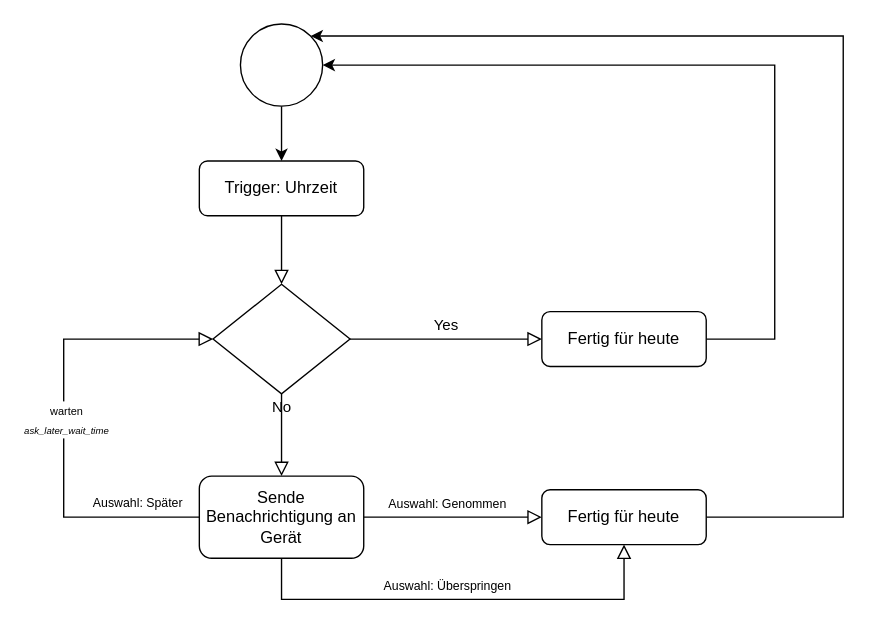
Image size: 878x637. Some labels were removed from this diagram. Here are the shapes that lost their labels. From the top down, the centre of each, then its label:
(281,64): Start
(281,338): NFC Tag scanned?
